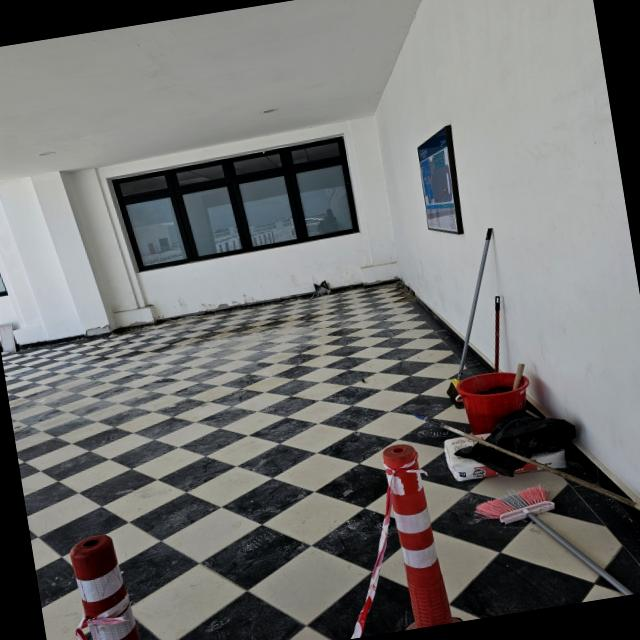obstacle: (402, 218, 593, 618), (366, 444, 451, 632), (56, 526, 155, 640)
